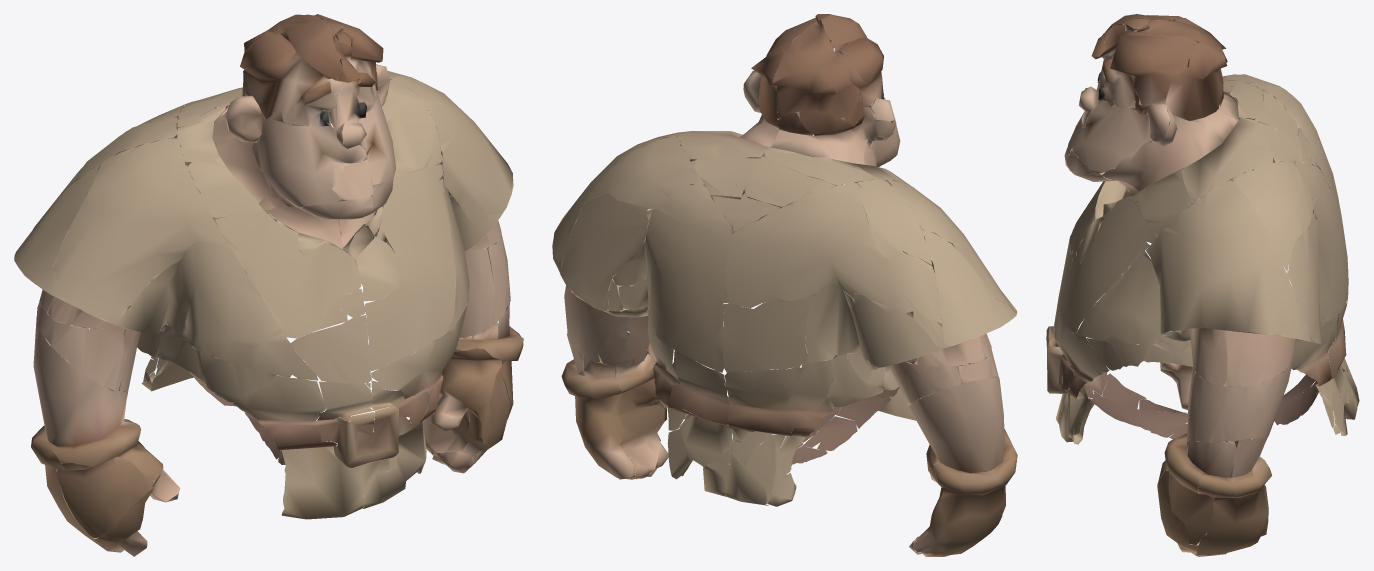
The model's file is villager-body-vc.glb.
3 views of the same model, side by side, from view 1: azimuth 30°, elevation 25°; view 2: azimuth 150°, elevation 25°; view 3: azimuth 270°, elevation 25° (orthographic). The views are drawn at different scales.
Parts seen in each view (by area): view 1: tripo_node_2b2a274c-68c4-4dc1-b889-d5ddfc6dd8be.001; view 2: tripo_node_2b2a274c-68c4-4dc1-b889-d5ddfc6dd8be.001; view 3: tripo_node_2b2a274c-68c4-4dc1-b889-d5ddfc6dd8be.001.
Part boxes in pixels (x1,y1,x2,y2): tripo_node_2b2a274c-68c4-4dc1-b889-d5ddfc6dd8be.001: (14, 14, 523, 556); tripo_node_2b2a274c-68c4-4dc1-b889-d5ddfc6dd8be.001: (552, 14, 1017, 556); tripo_node_2b2a274c-68c4-4dc1-b889-d5ddfc6dd8be.001: (1046, 14, 1359, 556).
Size of the model in its own units: 0.6694 by 0.6822 by 0.4146.
